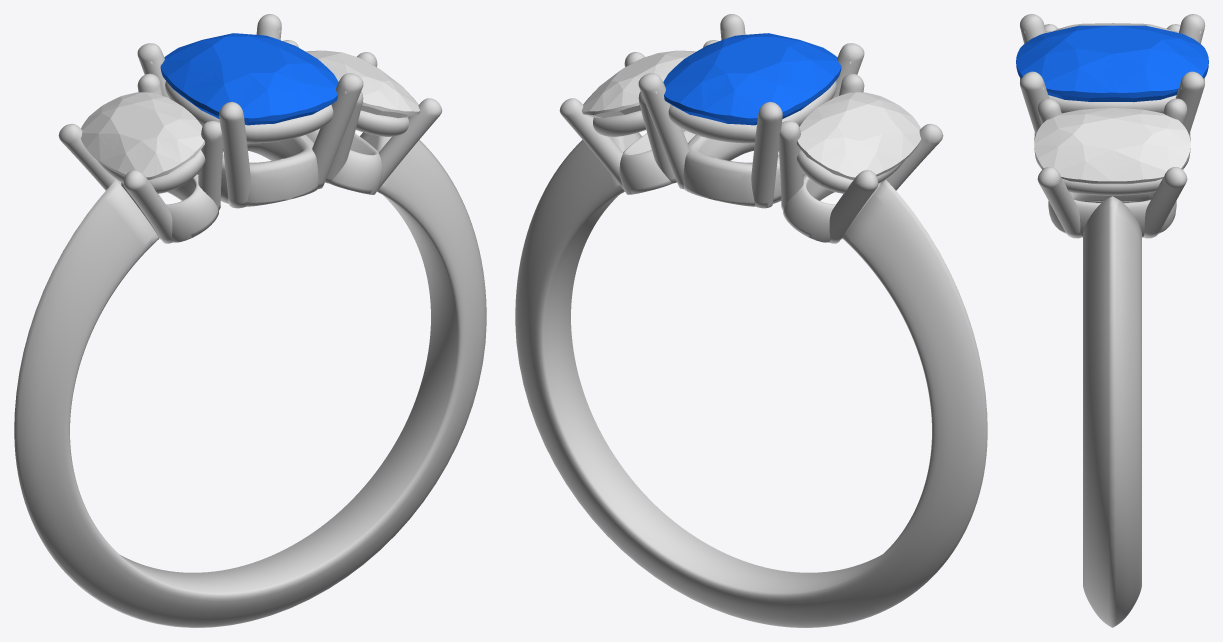
Rendered from bluesapphire-cushion-platinum-4prong-knifeedge-3stone.glb.
The picture shows the model from 3 angles, left to right: view 1: azimuth 30°, elevation 25°; view 2: azimuth 150°, elevation 25°; view 3: azimuth 270°, elevation 25°; orthographic projection.
Visible parts, largest first — view 1: metal, stone.003, side.006, side.007; view 2: metal, stone.003, side.006, side.007; view 3: metal, stone.003, side.007, side.006.
Boxes of the visible parts, left/top/right/bottom form: metal: left=14, top=14, right=486, bottom=627; stone.003: left=160, top=33, right=338, bottom=125; side.006: left=80, top=92, right=204, bottom=179; side.007: left=305, top=50, right=420, bottom=118; metal: left=515, top=14, right=987, bottom=627; stone.003: left=663, top=33, right=841, bottom=125; side.006: left=797, top=92, right=921, bottom=179; side.007: left=581, top=50, right=696, bottom=118; metal: left=1020, top=14, right=1205, bottom=627; stone.003: left=1016, top=25, right=1208, bottom=102; side.007: left=1034, top=108, right=1190, bottom=184; side.006: left=1053, top=23, right=1171, bottom=31.
Size of the model in its own units: 20.1 by 23.03 by 7.15.
